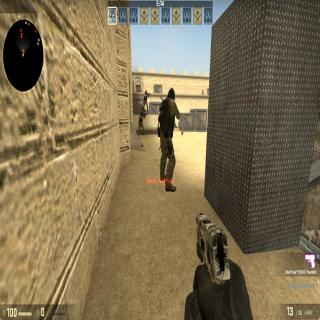CT-Body: (158, 86, 177, 192), (138, 110, 144, 135), (143, 89, 148, 112)
CT-Head: (167, 86, 176, 100), (140, 111, 143, 117), (144, 90, 148, 94)
T-Body: (201, 89, 204, 94)
